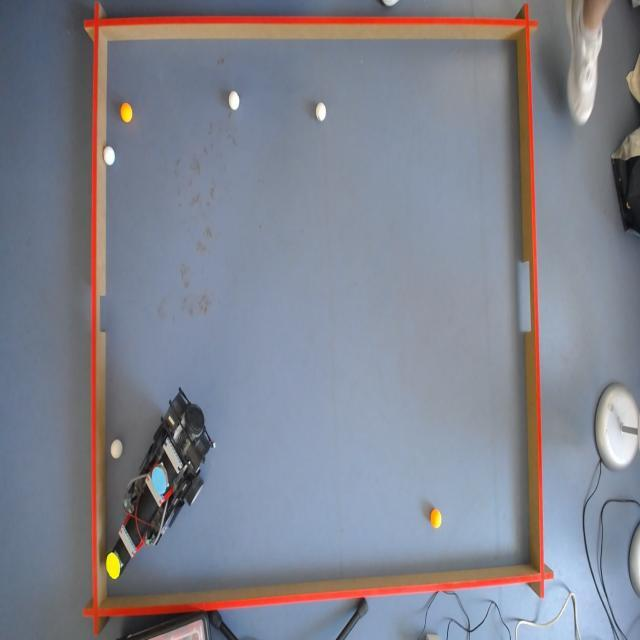orange: (120, 104, 134, 125)
robot: (105, 394, 216, 576)
robot-front: (107, 555, 122, 576)
robot-rear: (149, 464, 169, 497)
white: (228, 90, 240, 112), (314, 100, 326, 122), (431, 509, 443, 530), (104, 146, 115, 166), (112, 439, 124, 457)
